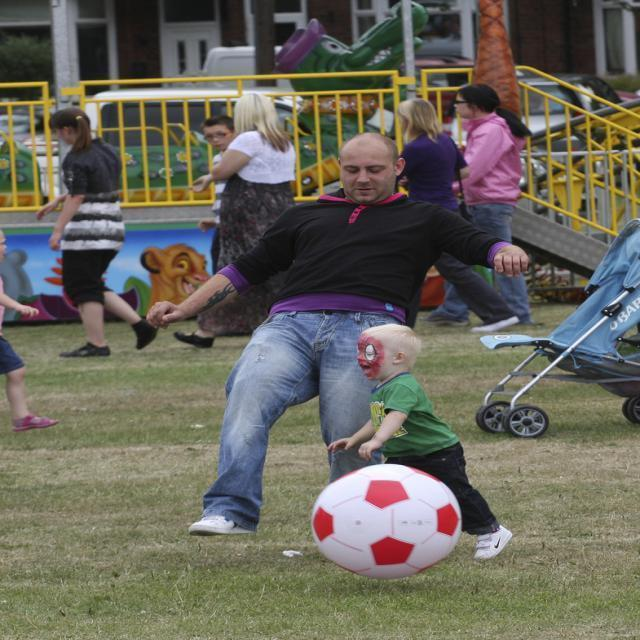ball: (307, 465, 462, 583)
